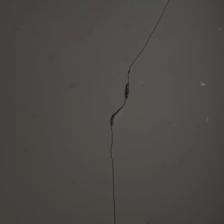Medium: (92, 30, 169, 212)
